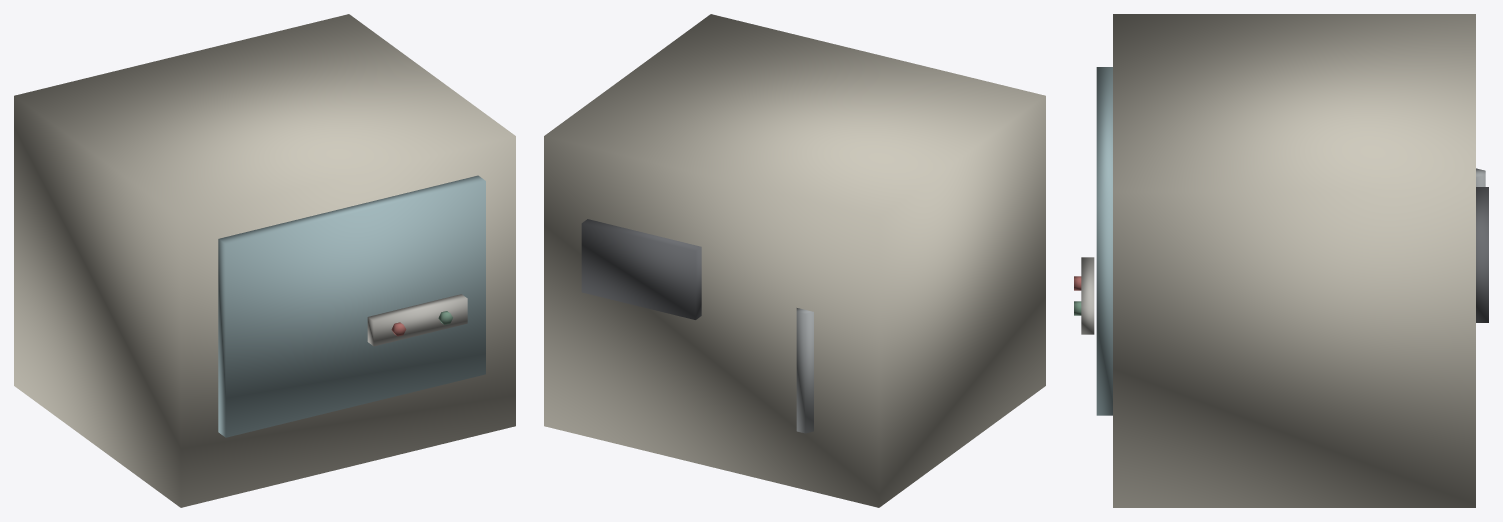
The model's file is crt_monitor__service.glb.
3 renders of one model, left to right at view 1: azimuth 30°, elevation 25°; view 2: azimuth 150°, elevation 25°; view 3: azimuth 270°, elevation 25°, orthographic. The views are drawn at different scales.
Visible parts, largest first — view 1: world; view 2: world; view 3: world.
Part boxes in pixels (x1=…): world: x1=14, y1=14, x2=515, y2=507; world: x1=544, y1=14, x2=1045, y2=507; world: x1=1074, y1=14, x2=1488, y2=507.
Size of the model in its own units: 0.58 by 0.52 by 0.571.
